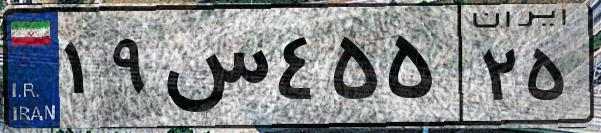1: (57, 26, 110, 100)
2: (475, 38, 525, 113)
4: (270, 28, 330, 110)
5: (385, 28, 445, 110), (330, 28, 385, 110), (525, 38, 570, 115)
9: (110, 28, 158, 98)
س: (158, 20, 270, 120)
